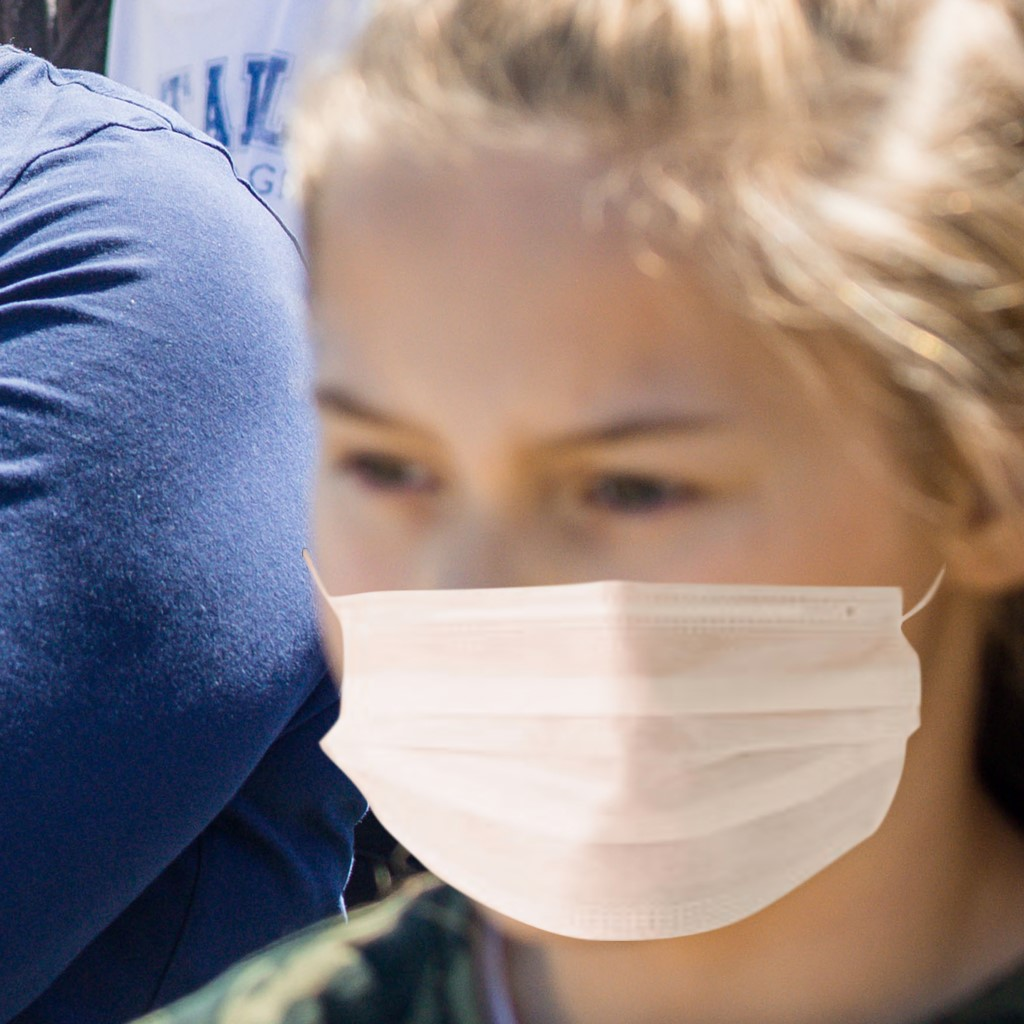con_mascara: (291, 140, 965, 944)
